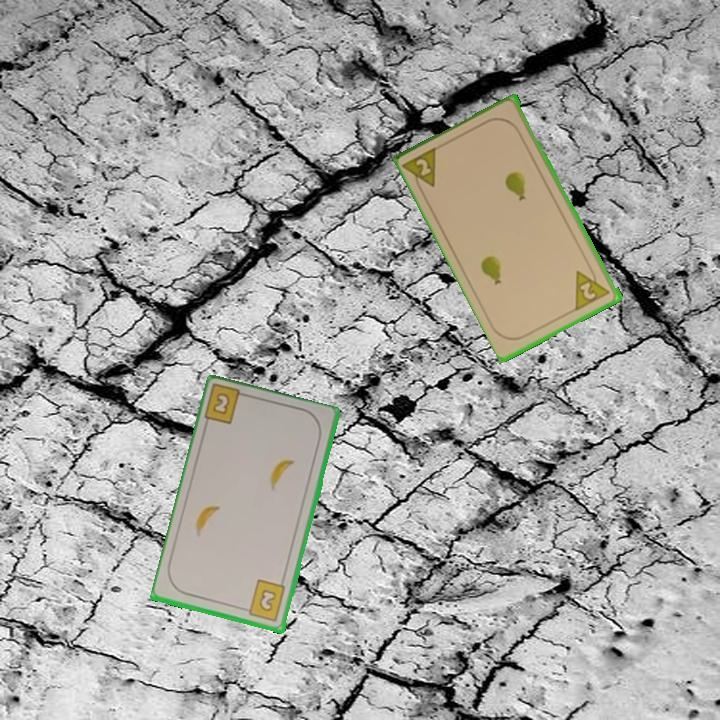2b: (240, 577, 289, 625), (201, 383, 252, 428)
2p: (401, 143, 442, 197), (572, 262, 613, 313)
